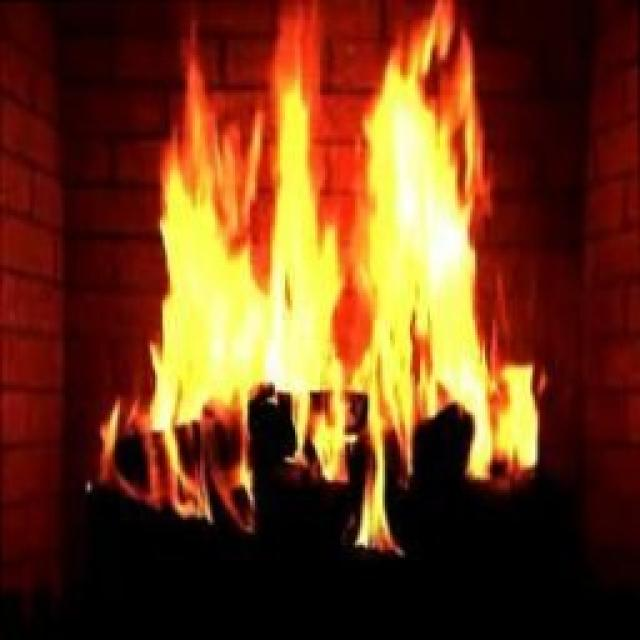fire: (114, 0, 561, 548)
